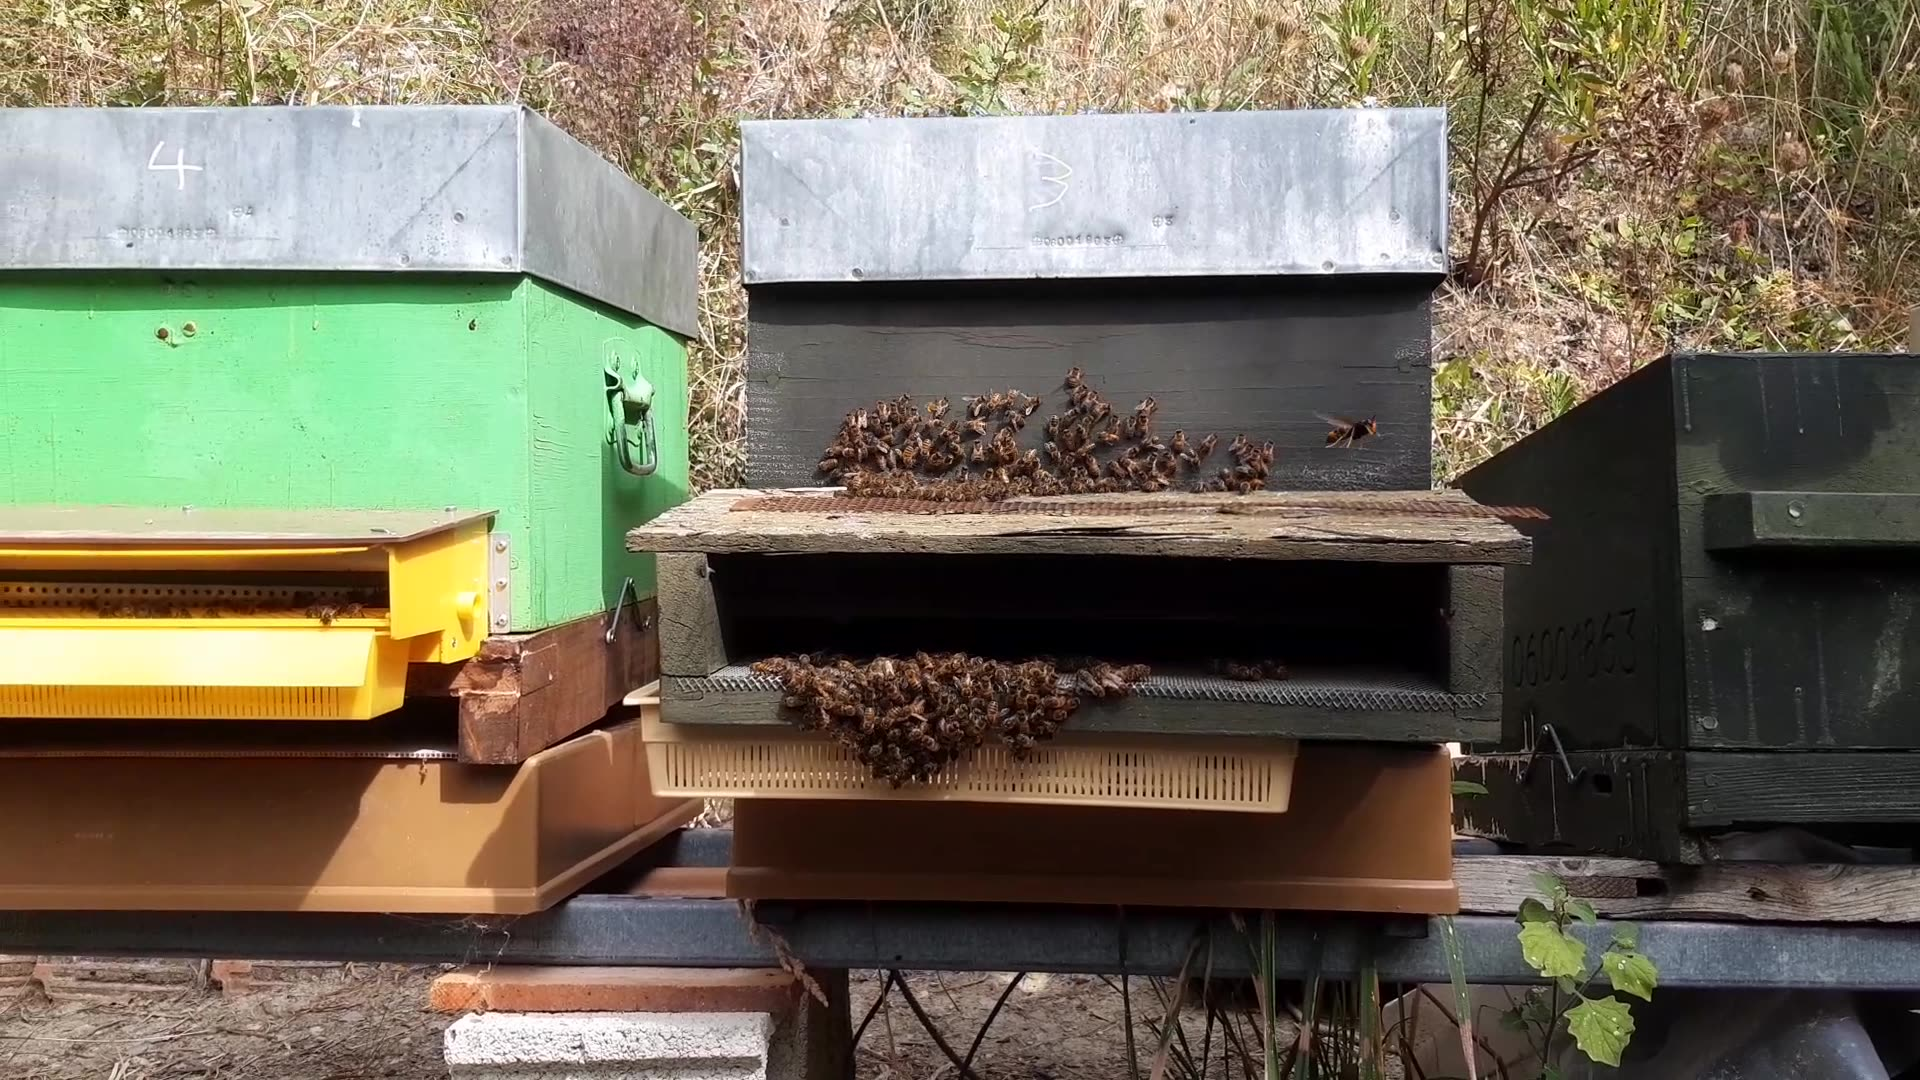bee: (1011, 683, 1104, 753), (868, 705, 936, 785), (781, 670, 847, 735), (1062, 393, 1127, 450), (1203, 446, 1276, 495), (934, 404, 1011, 450), (953, 459, 1031, 501), (1050, 454, 1117, 502), (833, 411, 909, 454), (696, 363, 756, 414), (1121, 425, 1182, 471), (820, 448, 877, 495)
